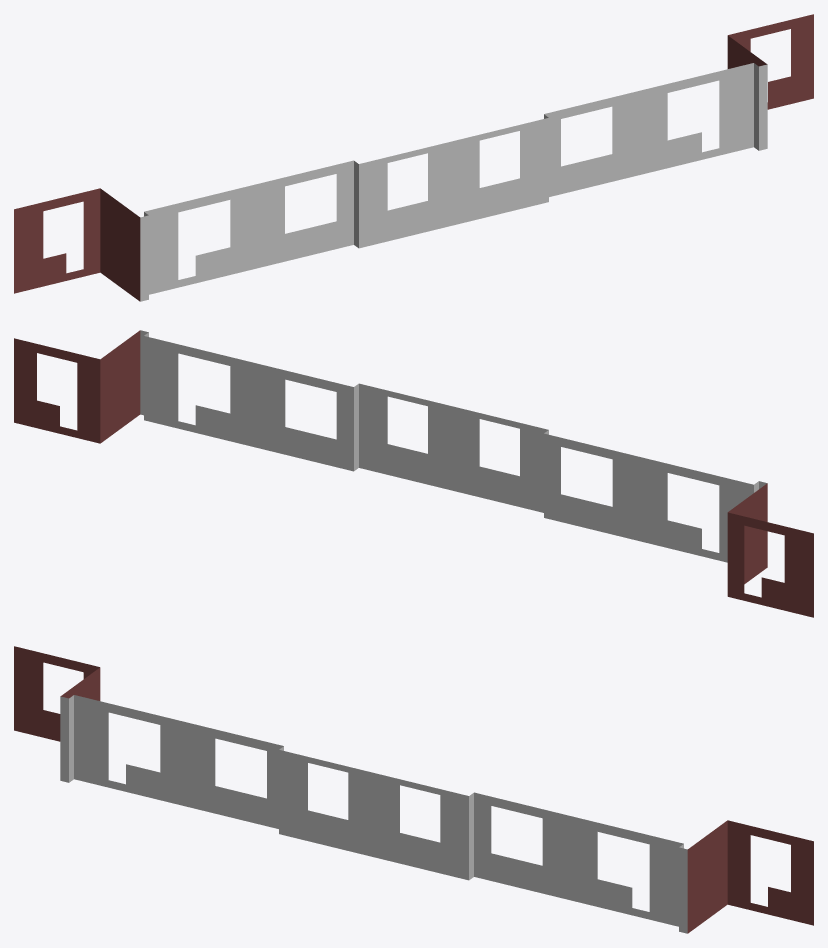
Rendered from p3-floor-second-back.fbx.
3 views of the same model, one above another, from view 1: azimuth 30°, elevation 25°; view 2: azimuth 150°, elevation 25°; view 3: azimuth 330°, elevation 25° (orthographic).
Parts seen in each view (by area): view 1: floor-second-back.001; view 2: floor-second-back.001; view 3: floor-second-back.001.
Part boxes in pixels (x1,y1,x2,y2): floor-second-back.001: [14, 14, 813, 301]; floor-second-back.001: [14, 330, 813, 617]; floor-second-back.001: [14, 646, 813, 933].
Size of the model in its own units: 2779 by 280 by 240.
